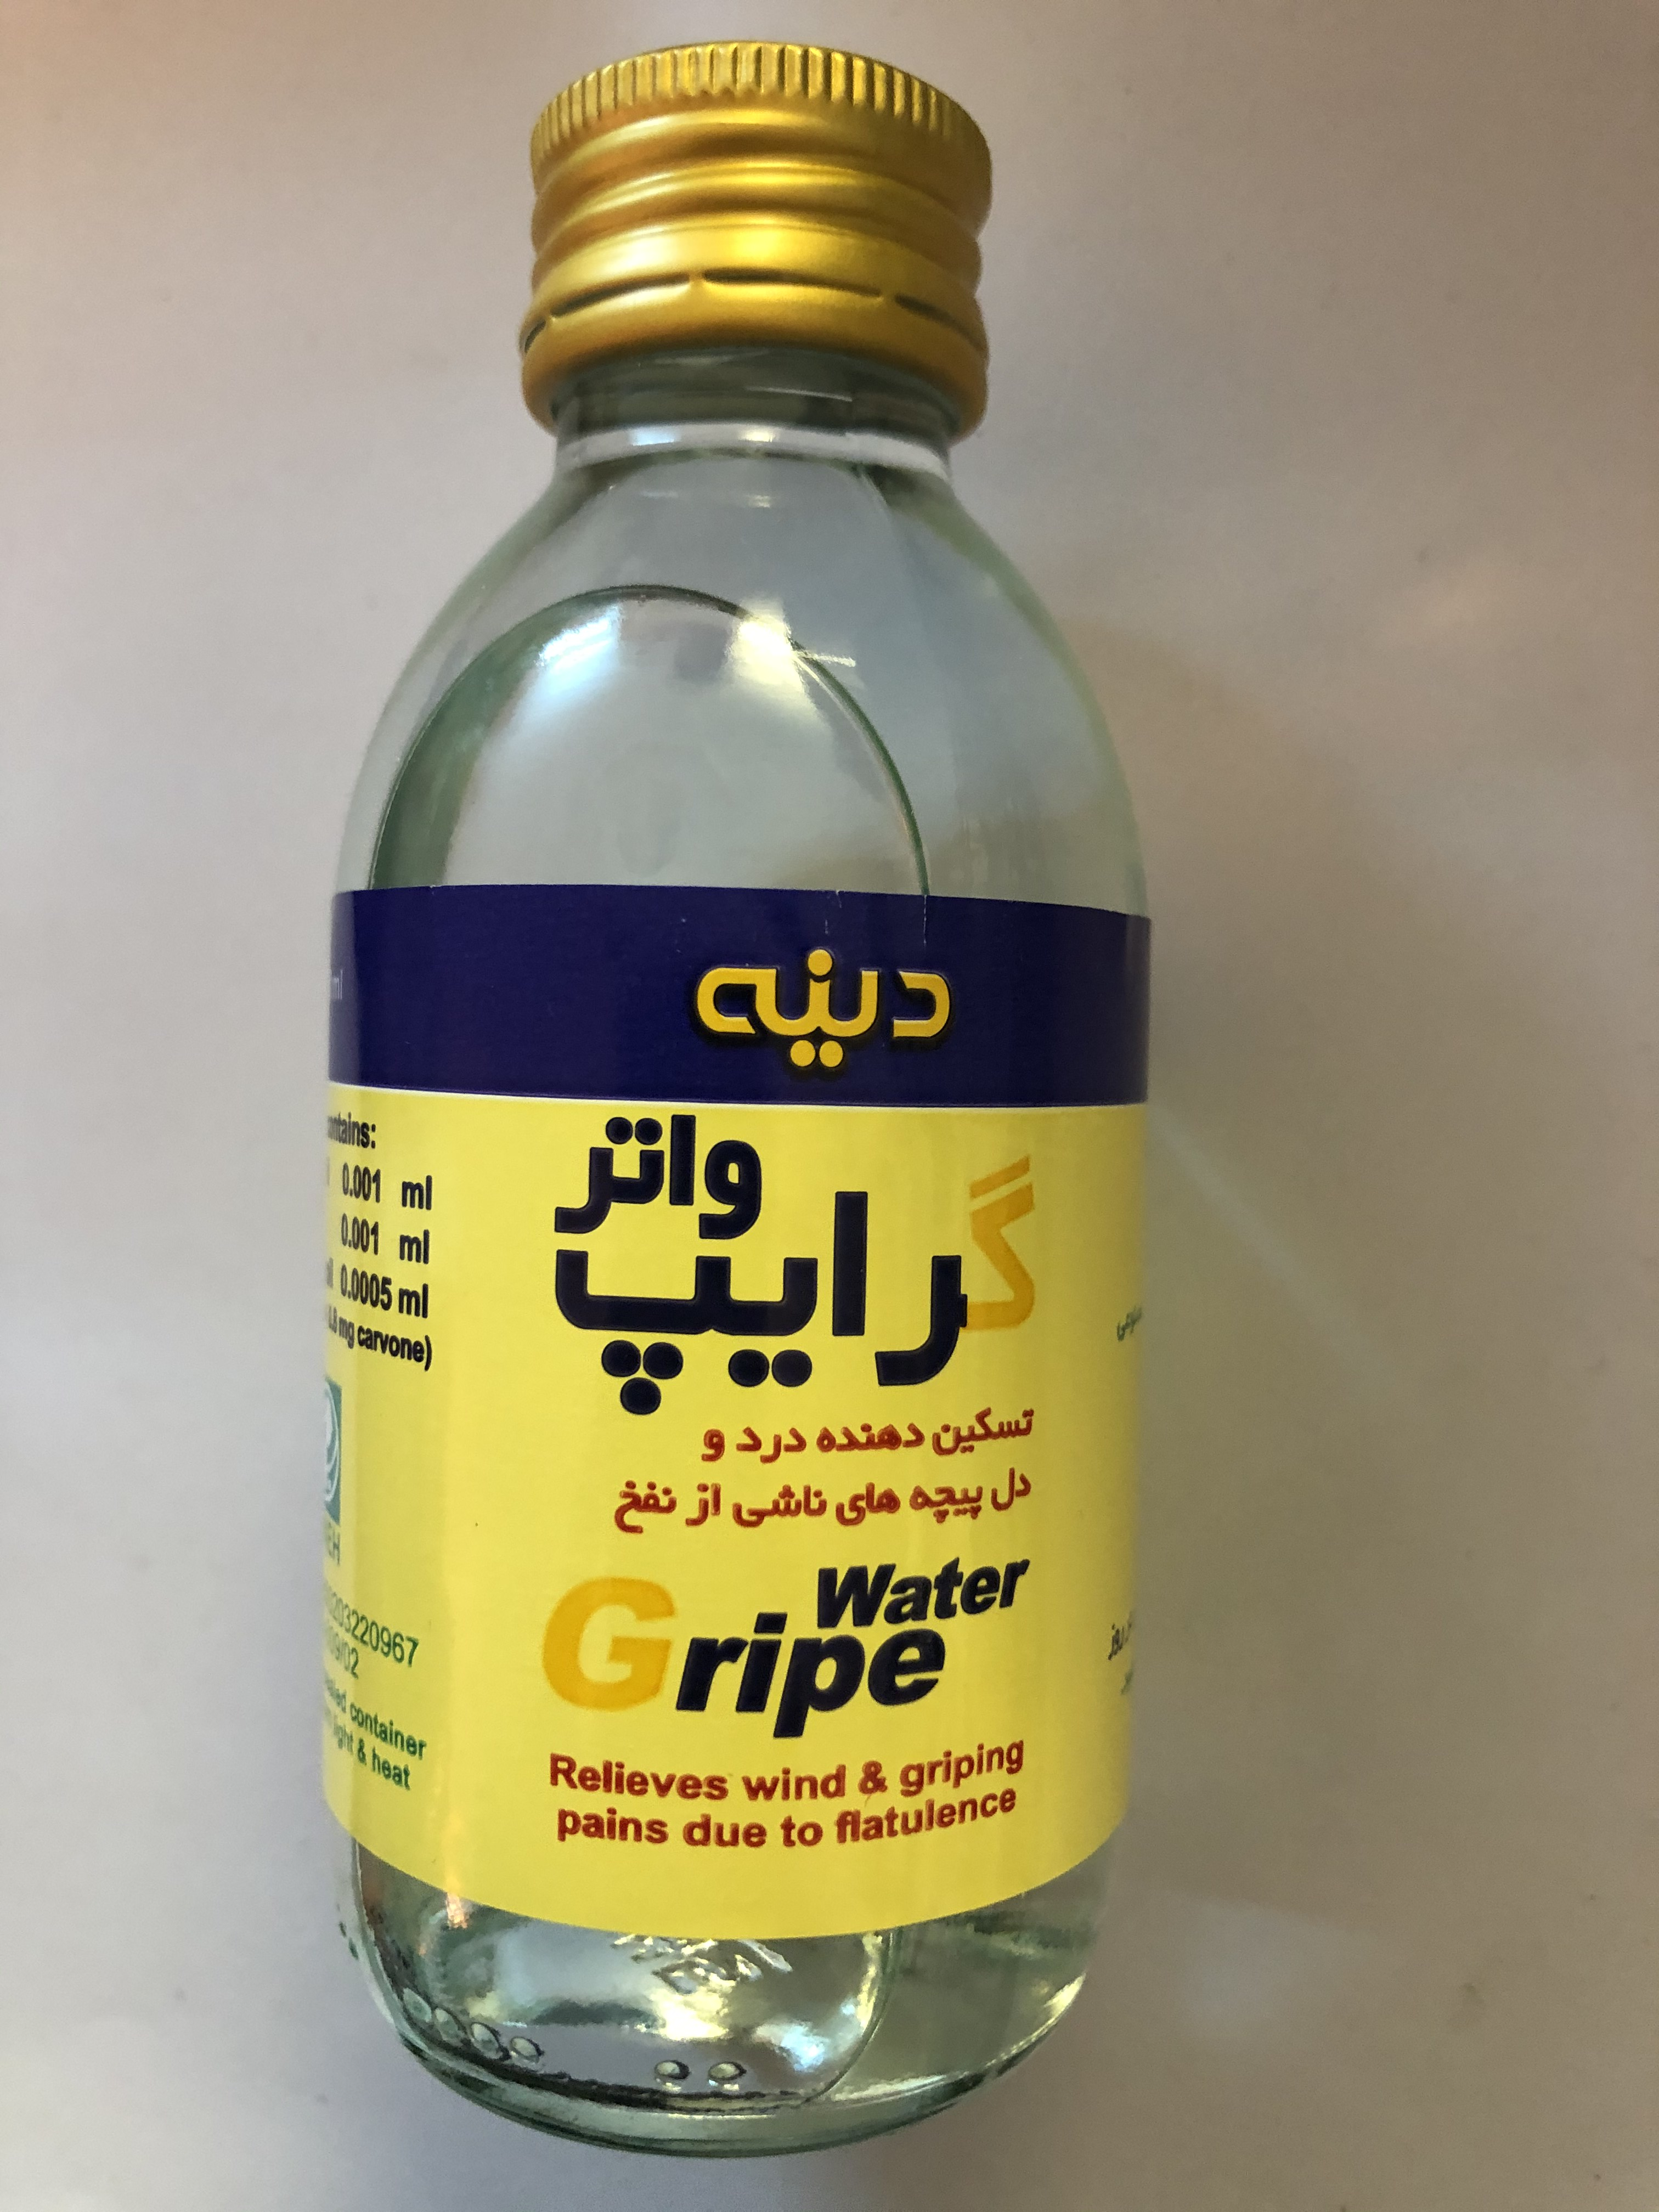Medicine name: (523, 1534, 1086, 1743)
